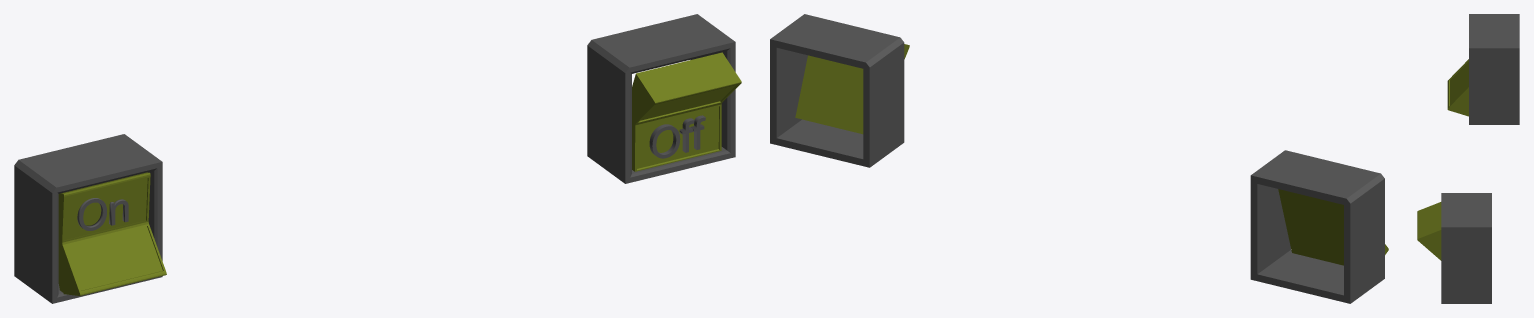
Rendered from buttons_spec_on.glb.
3 renders of one model, left to right at view 1: azimuth 30°, elevation 25°; view 2: azimuth 150°, elevation 25°; view 3: azimuth 270°, elevation 25°, orthographic. The views are drawn at different scales.
Parts seen in each view (by area): view 1: Cube.008, Cube.005, Cube, Text.002; view 2: Cube.008, Cube.005, Cube; view 3: Cube.008, Cube.005, Cube.
Part boxes in pixels (box(x1,y1,x2,y2)): Cube.008: box(14, 134, 166, 303); Cube.005: box(587, 14, 735, 183); Cube: box(632, 52, 741, 171); Text.002: box(649, 115, 705, 158); Cube.008: box(1250, 150, 1388, 303); Cube.005: box(770, 14, 904, 167); Cube: box(795, 44, 909, 134); Cube.008: box(1447, 14, 1519, 124); Cube.005: box(1441, 193, 1491, 303); Cube: box(1417, 202, 1441, 260).
Bounding box in the file's own units: 23.99 × 4.01 × 4.83.
